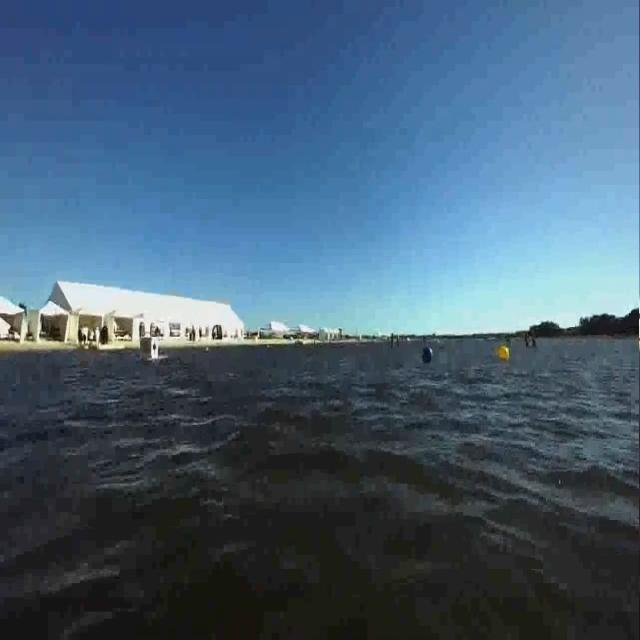blue-buoy: (422, 345, 433, 364)
yellow-buoy: (497, 343, 510, 362)
